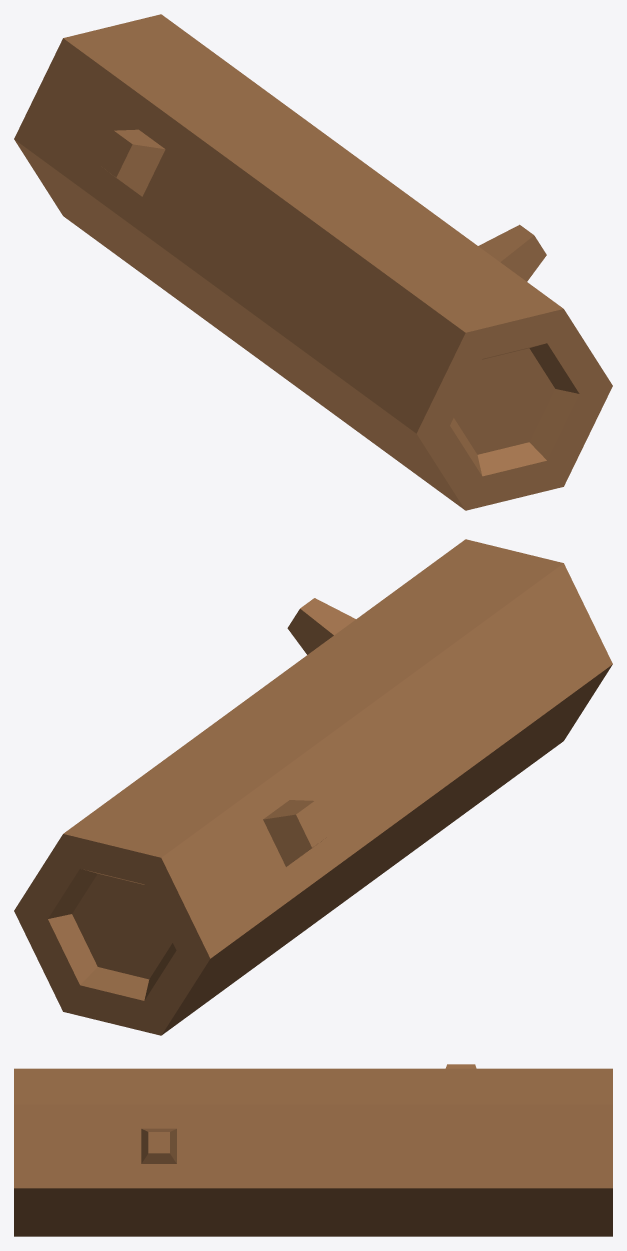
Rendered from stump-3.glb.
3 renders of one model, top to bottom at view 1: azimuth 30°, elevation 25°; view 2: azimuth 150°, elevation 25°; view 3: azimuth 270°, elevation 25°, orthographic. The views are drawn at different scales.
Visible parts, largest first — view 1: log; view 2: log; view 3: log.
Part boxes in pixels (bbox=[...]): log: bbox=[14, 14, 612, 510]; log: bbox=[14, 539, 612, 1035]; log: bbox=[14, 1064, 612, 1236].
Size of the model in its own units: 0.6754 by 0.4999 by 2.05.
